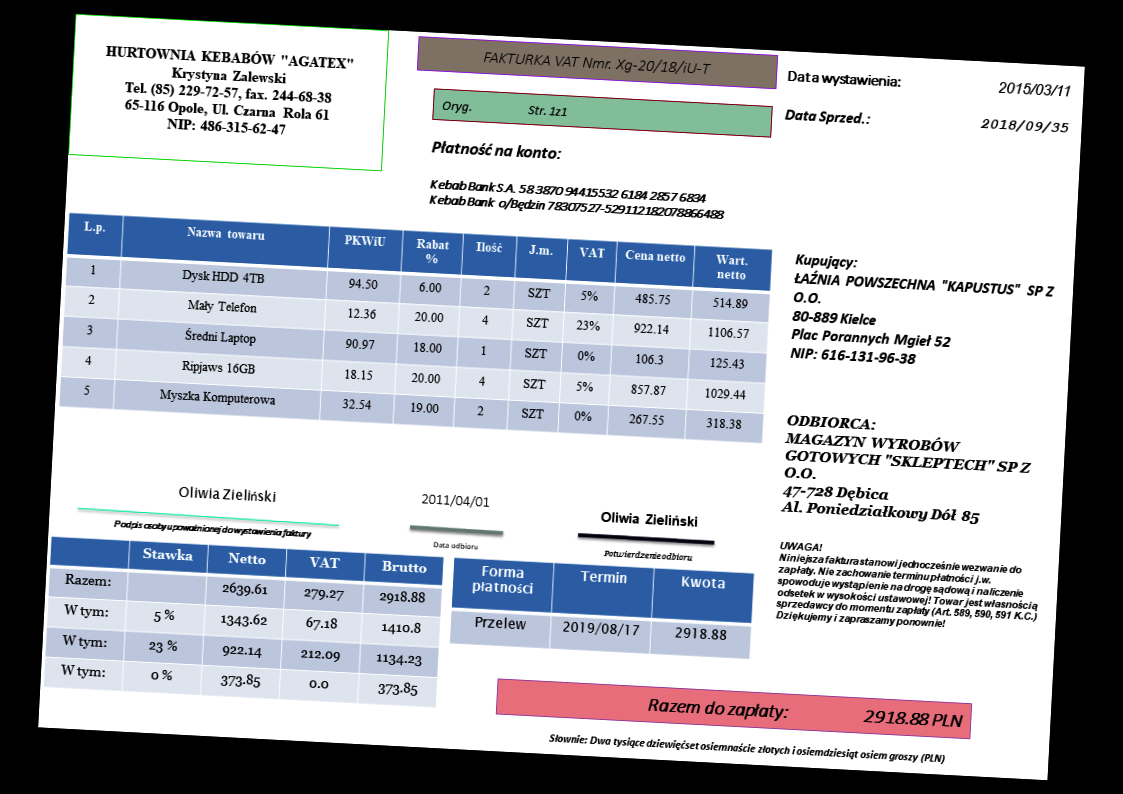Table: (57, 212, 774, 445), (42, 536, 445, 709), (448, 555, 755, 661)
TextBox: (786, 250, 1057, 376), (778, 411, 1035, 531), (97, 37, 358, 145), (774, 536, 1044, 636), (545, 727, 948, 768), (426, 175, 728, 223), (644, 693, 965, 732), (477, 47, 713, 78), (111, 516, 315, 543), (428, 138, 563, 164), (785, 65, 903, 94), (438, 96, 571, 121), (174, 481, 281, 506), (977, 114, 1071, 138), (597, 508, 700, 529), (783, 105, 873, 128), (600, 546, 695, 564), (996, 78, 1073, 99), (419, 491, 491, 511), (430, 539, 480, 551)
